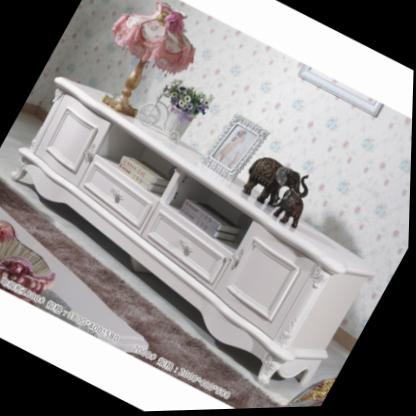TV stand: (14, 78, 377, 389)
